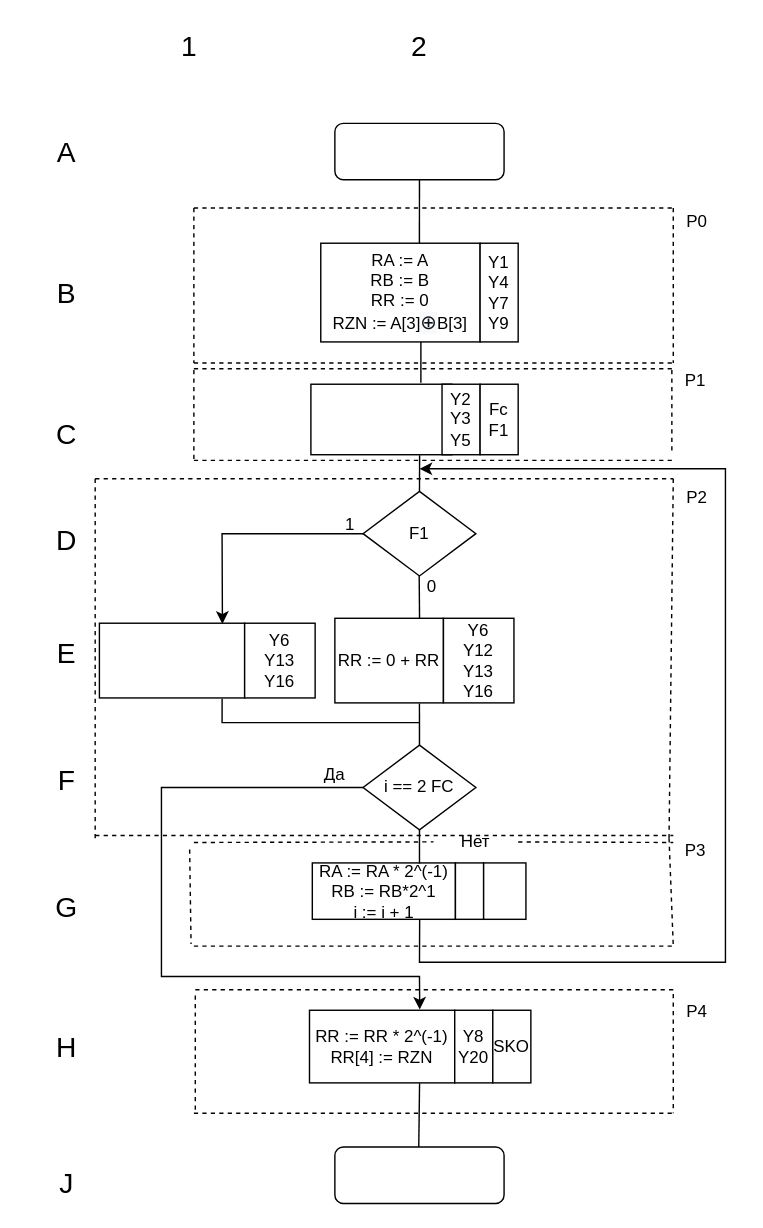
Image size: 763x1228. Some labels were removed from this diagram. The shapes that lost their labels are listed below. From the top down, each one's box as (x1, y1, x2, y2) in pixels, then its label:
(333, 122, 504, 180): начало
(309, 383, 452, 455): RA := RA*2^1 RB := RB*2^1 i := 0
(98, 622, 245, 698): RR := 0+RA + RR
(454, 862, 484, 919): Y2 Y5
(482, 862, 526, 919): F1 Fc Y21
(333, 1146, 504, 1203): конец
